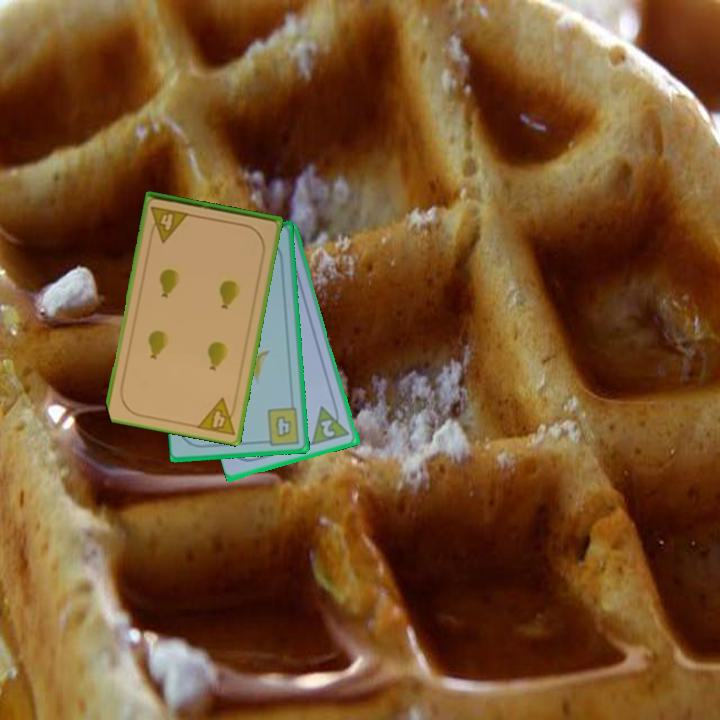2p: (317, 416, 338, 440)
4b: (260, 404, 302, 448)
4p: (193, 394, 240, 438), (146, 203, 192, 245)
